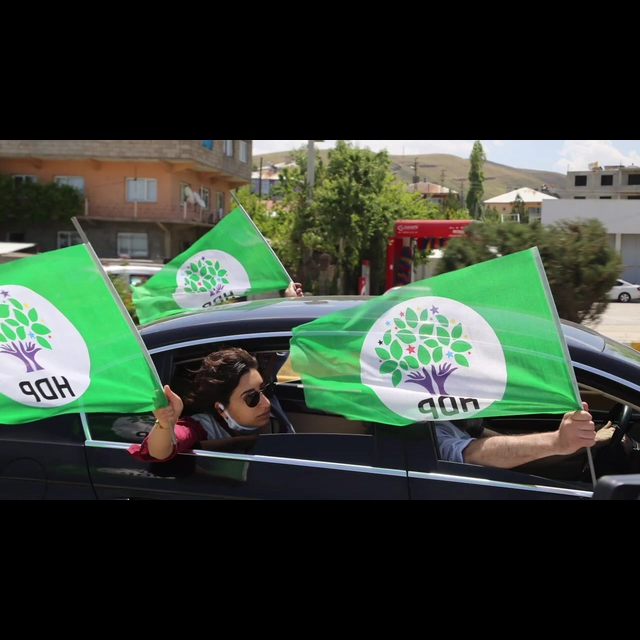HDP: (364, 301, 477, 395), (1, 286, 60, 373), (174, 256, 228, 295)
